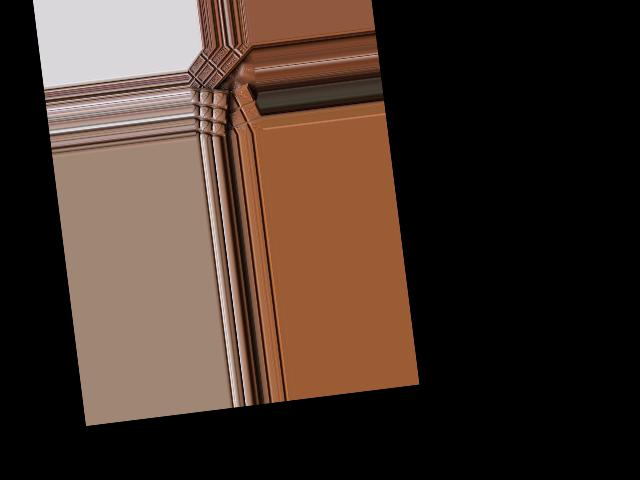chocolate: (214, 83, 259, 137)
